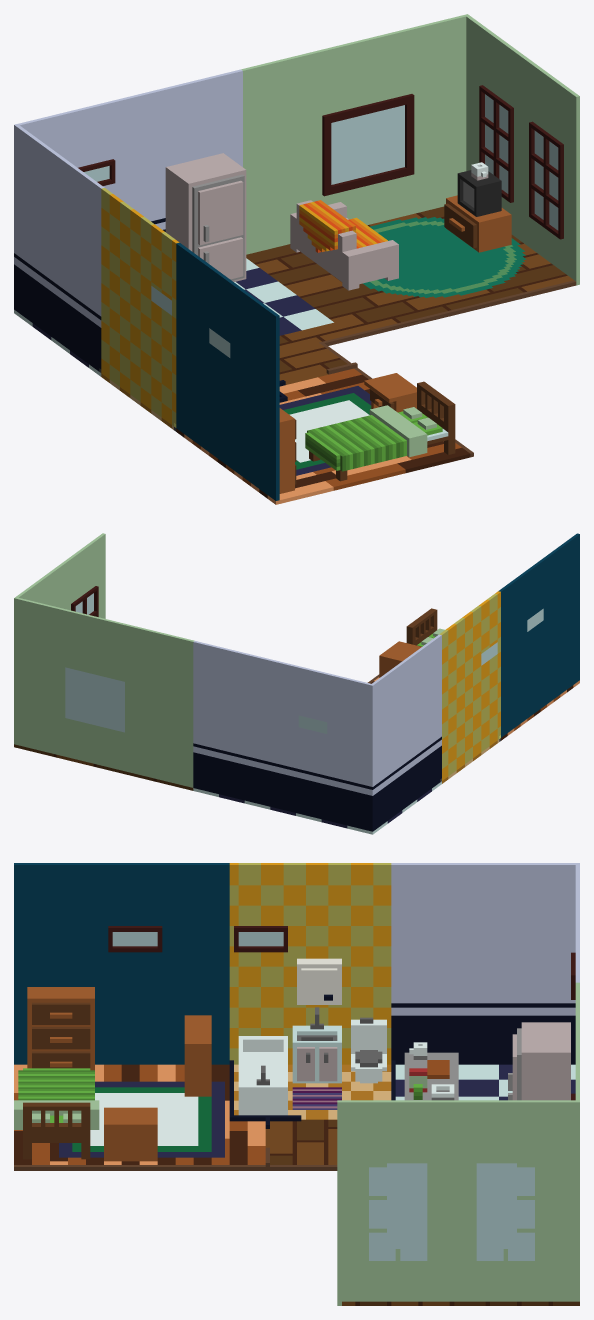
Rendered from MainCharactersHome1.obj.
3 views of the same model, one above another, from view 1: azimuth 30°, elevation 25°; view 2: azimuth 150°, elevation 25°; view 3: azimuth 270°, elevation 25° (orthographic). The views are drawn at different scales.
Bounding box in the file's own units: 12.6 × 5 × 12.6.
Materials: 1 (1 with a texture image).
